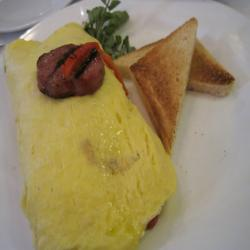bread: (120, 23, 234, 131)
omelette: (3, 30, 176, 246)
salad: (82, 6, 139, 56)
